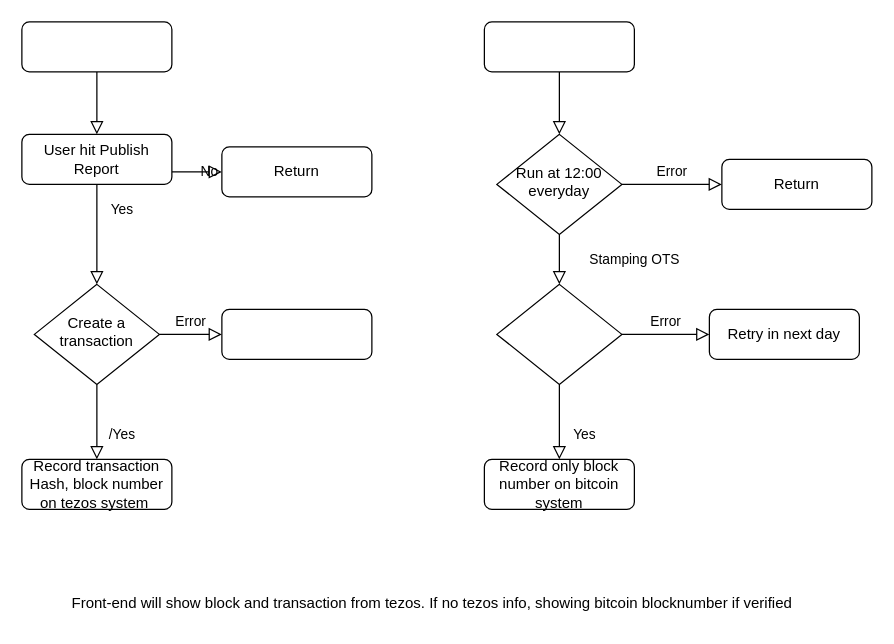
Image size: 894x644. Some labels were removed from this diagram. The shapes that lost their labels are listed below. From the top down, each one's box as (x1, y1, x2, y2) in pixels, then its label:
(21, 21, 172, 72): Tezos BlockChain
(483, 21, 634, 72): OTS BlockChain
(221, 308, 372, 359): Wait for OTS verifying
(496, 283, 622, 384): OTS verifying
